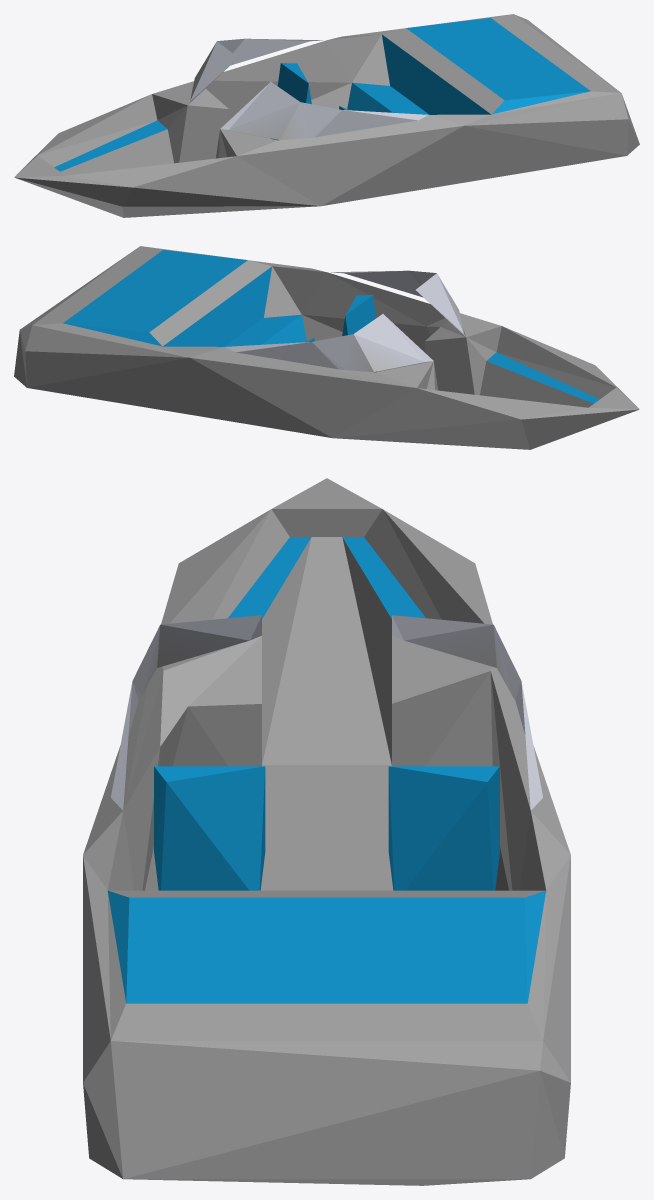
The model's file is bay-speedboat.lod2.glb.
3 views of the same model, one above another, from view 1: azimuth 30°, elevation 25°; view 2: azimuth 150°, elevation 25°; view 3: azimuth 270°, elevation 25° (orthographic). The views are drawn at different scales.
Visible parts, largest first — view 1: CHROME_Chrome Polished_0; view 2: CHROME_Chrome Polished_0; view 3: CHROME_Chrome Polished_0.
Boxes of the visible parts, x1,y1,x2,y2 form: CHROME_Chrome Polished_0: (14,14,639,217); CHROME_Chrome Polished_0: (14,246,639,449); CHROME_Chrome Polished_0: (83,478,570,1185).
Bounding box in the file's own units: 6.5 × 1.54 × 2.39.
